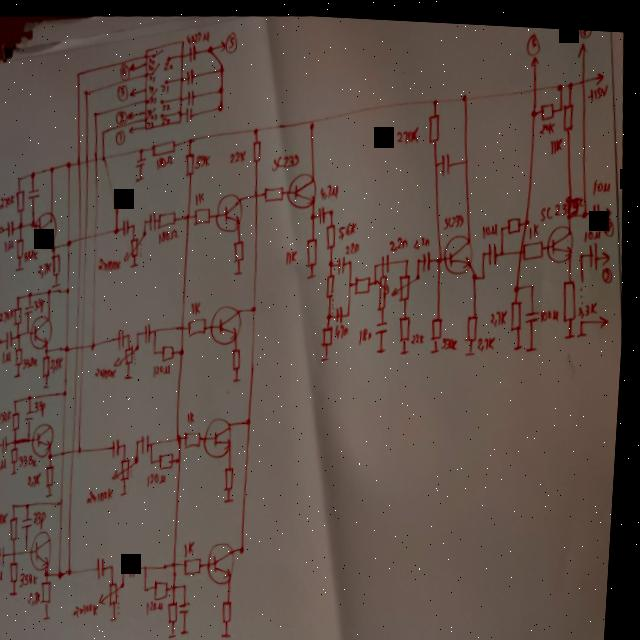capacitor: (590, 235, 603, 263), (441, 146, 454, 172), (489, 235, 501, 261), (423, 244, 435, 268), (324, 320, 336, 344), (383, 247, 395, 270), (115, 435, 127, 457), (149, 207, 159, 233), (378, 314, 392, 332), (124, 214, 135, 236), (3, 544, 13, 568), (593, 194, 603, 218), (527, 303, 543, 318), (134, 553, 144, 576), (120, 326, 130, 348), (147, 320, 157, 342), (102, 555, 112, 577), (9, 329, 19, 349), (8, 218, 18, 238), (146, 432, 156, 452), (338, 251, 349, 269), (320, 201, 330, 220), (29, 186, 43, 199), (26, 516, 40, 529), (186, 103, 196, 121), (136, 154, 149, 167), (186, 598, 198, 612), (187, 86, 196, 104), (189, 43, 198, 61), (28, 409, 40, 422), (186, 66, 195, 83), (5, 435, 13, 453), (28, 303, 39, 316), (339, 301, 347, 318)
crossover: (95, 229, 102, 239), (65, 448, 72, 457), (532, 79, 539, 88), (581, 70, 588, 79), (78, 342, 84, 351), (78, 158, 84, 167), (86, 156, 92, 165), (183, 321, 189, 329), (76, 446, 82, 454), (95, 154, 101, 162), (86, 232, 91, 241), (84, 342, 89, 350), (80, 234, 85, 242), (521, 243, 525, 249)
ground: (323, 347, 335, 359), (527, 339, 542, 348), (567, 324, 580, 334), (309, 268, 321, 278), (49, 612, 60, 622), (516, 336, 527, 346), (379, 342, 390, 352), (54, 279, 65, 289), (227, 628, 239, 637), (468, 344, 480, 353), (136, 173, 148, 182), (433, 341, 443, 351), (229, 493, 240, 502), (236, 267, 248, 275), (187, 625, 197, 634), (403, 343, 413, 352), (15, 589, 26, 597), (579, 325, 591, 332), (50, 489, 59, 498), (175, 629, 185, 637), (128, 371, 138, 379), (236, 374, 247, 381), (132, 260, 143, 267), (15, 469, 24, 477), (18, 266, 28, 272), (18, 372, 26, 379), (117, 614, 126, 620), (126, 489, 134, 495), (47, 382, 54, 388)
junction: (603, 210, 617, 231), (309, 113, 317, 128), (248, 412, 257, 423), (437, 249, 446, 260), (206, 42, 215, 53), (93, 339, 101, 351), (62, 568, 71, 578), (253, 300, 261, 311), (244, 540, 252, 551), (217, 98, 225, 109), (556, 75, 564, 86), (50, 163, 58, 174), (67, 284, 75, 295), (473, 266, 481, 277), (530, 102, 538, 112), (310, 208, 318, 218), (515, 277, 523, 287), (567, 73, 575, 83), (461, 87, 469, 97), (63, 497, 71, 507), (72, 566, 80, 576), (115, 224, 123, 234), (138, 452, 145, 463), (219, 63, 227, 72), (330, 254, 337, 264), (68, 237, 75, 247), (84, 87, 91, 97), (432, 93, 440, 101), (186, 209, 193, 218), (31, 170, 38, 179), (180, 430, 187, 439), (254, 187, 261, 196), (101, 126, 108, 135), (30, 289, 37, 298), (19, 331, 26, 340), (52, 451, 59, 460), (18, 548, 25, 557), (349, 276, 356, 285), (218, 83, 225, 92), (68, 342, 74, 352), (29, 500, 36, 508), (188, 134, 195, 142), (407, 252, 414, 260), (525, 212, 532, 220), (583, 204, 590, 212), (581, 311, 588, 319), (182, 345, 188, 354), (66, 387, 72, 396), (67, 159, 73, 168), (254, 123, 260, 132), (116, 561, 122, 570), (140, 144, 146, 153), (156, 324, 162, 333), (329, 307, 335, 315), (464, 152, 470, 160), (532, 275, 538, 283), (181, 453, 187, 461), (581, 244, 587, 252), (177, 558, 183, 566), (75, 69, 81, 77), (483, 267, 489, 275), (435, 155, 441, 163), (32, 219, 38, 227), (49, 287, 55, 295), (127, 560, 133, 568), (17, 437, 23, 445), (50, 569, 56, 577), (350, 254, 356, 262), (501, 219, 507, 227), (20, 221, 26, 229), (53, 244, 59, 252), (156, 347, 162, 355), (568, 206, 574, 214), (82, 444, 87, 453), (17, 396, 22, 405), (484, 244, 489, 253), (134, 219, 139, 228), (331, 204, 336, 213), (502, 243, 508, 250), (31, 393, 36, 401), (178, 581, 183, 589), (419, 252, 424, 260), (128, 440, 133, 448), (16, 502, 22, 508), (375, 258, 381, 264), (103, 153, 108, 160), (149, 561, 153, 569), (376, 274, 380, 282), (419, 269, 423, 277), (139, 341, 143, 349), (188, 580, 193, 586), (19, 294, 24, 300), (150, 584, 155, 590), (94, 110, 99, 116), (48, 348, 54, 353), (144, 228, 149, 234), (350, 306, 354, 312), (31, 547, 35, 553), (30, 328, 34, 334), (32, 436, 36, 442), (140, 437, 144, 443), (560, 100, 564, 106), (140, 329, 144, 335), (145, 217, 149, 223), (155, 440, 159, 445), (131, 330, 134, 336), (155, 458, 158, 462)
resistor: (563, 270, 581, 317), (105, 578, 133, 606), (393, 269, 419, 298), (115, 452, 140, 482), (124, 227, 145, 262), (378, 270, 395, 308), (117, 341, 139, 367), (524, 233, 547, 255), (307, 232, 322, 265), (152, 136, 178, 155), (427, 107, 442, 139), (512, 292, 526, 326), (189, 314, 211, 335), (467, 309, 482, 338), (159, 576, 177, 600), (159, 207, 180, 227), (188, 427, 208, 448), (189, 553, 209, 574), (265, 181, 287, 200), (356, 271, 375, 293), (401, 309, 415, 337), (539, 95, 557, 116), (432, 311, 446, 338), (234, 236, 248, 262), (196, 202, 213, 223), (563, 96, 575, 125), (163, 449, 180, 469), (323, 320, 337, 344), (326, 219, 338, 246), (47, 577, 59, 604), (164, 341, 180, 361), (173, 598, 186, 622), (228, 596, 240, 622), (14, 515, 26, 541), (228, 463, 240, 489), (509, 210, 525, 229), (16, 188, 28, 213), (253, 134, 264, 160), (185, 149, 196, 174), (234, 344, 245, 368), (53, 253, 64, 277), (15, 560, 26, 583), (50, 462, 60, 486), (328, 270, 338, 294), (46, 354, 56, 378), (18, 237, 28, 260), (17, 305, 27, 325), (18, 346, 28, 366), (15, 410, 25, 429), (14, 445, 24, 464)
switch: (150, 59, 170, 84), (145, 84, 166, 104), (151, 45, 173, 61), (145, 103, 164, 121)
terminal: (576, 35, 588, 52), (602, 307, 613, 322), (603, 243, 613, 259), (595, 64, 605, 79), (128, 59, 137, 72), (530, 50, 540, 61), (606, 200, 615, 212), (127, 108, 136, 119), (220, 37, 227, 51), (130, 85, 137, 95), (1, 224, 8, 234), (0, 336, 7, 345), (130, 123, 137, 132), (0, 439, 6, 449), (0, 551, 4, 561)
text: (272, 148, 302, 169), (541, 195, 569, 216), (91, 484, 120, 504), (396, 121, 422, 141), (587, 76, 610, 96), (80, 599, 105, 617), (579, 293, 601, 313), (443, 207, 467, 225), (390, 230, 414, 248), (97, 362, 123, 378), (185, 26, 211, 42), (150, 467, 173, 485), (159, 225, 182, 243), (319, 179, 341, 197), (22, 451, 44, 469), (491, 302, 511, 321), (0, 191, 19, 211), (39, 259, 57, 279), (152, 597, 172, 615), (26, 569, 46, 587), (340, 217, 360, 235), (478, 329, 499, 346), (100, 255, 123, 270), (224, 28, 238, 52), (542, 301, 564, 316), (1, 306, 19, 324), (33, 471, 51, 489), (0, 407, 18, 425), (483, 216, 500, 235), (593, 171, 614, 186), (585, 220, 606, 235), (196, 151, 214, 168), (230, 145, 249, 161), (39, 509, 54, 529), (156, 361, 176, 376), (443, 330, 463, 345), (415, 230, 433, 246), (361, 322, 376, 341), (36, 296, 52, 313), (37, 398, 51, 417), (551, 130, 565, 149), (287, 245, 301, 264), (156, 153, 176, 166), (337, 320, 353, 336), (26, 354, 43, 369), (189, 536, 202, 555), (119, 61, 132, 80), (34, 589, 49, 605), (0, 510, 15, 526), (117, 82, 129, 102), (541, 115, 558, 129), (189, 406, 202, 424), (346, 237, 364, 250), (148, 55, 158, 78), (26, 248, 42, 262), (413, 327, 429, 341), (115, 107, 128, 124), (55, 355, 69, 370), (530, 216, 541, 235), (603, 260, 616, 276), (6, 348, 18, 365), (148, 70, 158, 90), (195, 188, 207, 203), (116, 128, 128, 143), (164, 57, 177, 70), (0, 569, 12, 583), (194, 298, 206, 312), (2, 456, 13, 471), (6, 239, 18, 252), (160, 83, 173, 94), (227, 32, 235, 48), (163, 100, 174, 111), (606, 261, 614, 275), (606, 214, 615, 226), (119, 111, 127, 122), (531, 31, 538, 43), (163, 115, 173, 123), (120, 85, 127, 96), (119, 130, 125, 140), (122, 65, 128, 75), (148, 118, 156, 125), (152, 94, 158, 103), (152, 112, 160, 118), (579, 24, 588, 29), (149, 108, 152, 114)
transistor: (211, 300, 247, 344), (214, 189, 248, 232), (212, 536, 243, 583), (445, 226, 477, 270), (207, 413, 239, 457), (286, 168, 320, 207), (547, 217, 579, 257), (34, 529, 60, 571), (36, 209, 61, 249), (34, 420, 60, 458), (32, 313, 57, 349)
